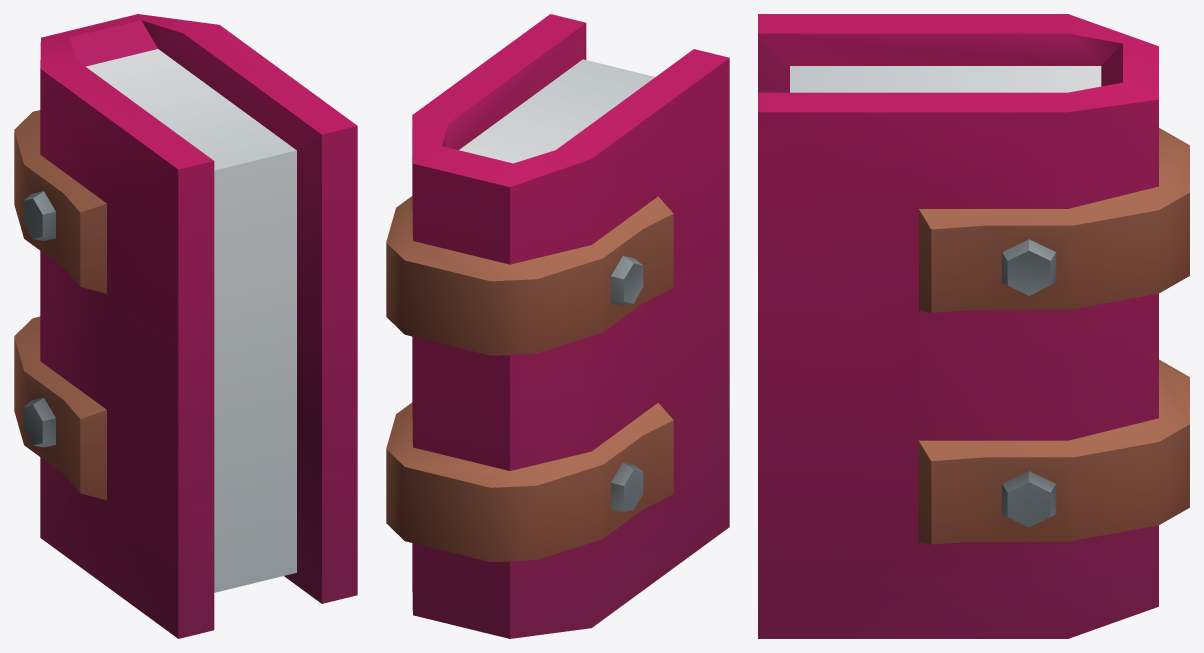
File: KayKit_Weapon_spellbook_closed.glb
3 renders of one model, left to right at view 1: azimuth 30°, elevation 25°; view 2: azimuth 150°, elevation 25°; view 3: azimuth 270°, elevation 25°, orthographic. The views are drawn at different scales.
Visible parts, largest first — view 1: spellbook_closed; view 2: spellbook_closed; view 3: spellbook_closed.
Part boxes in pixels (x1=…): spellbook_closed: x1=14, y1=14, x2=357, y2=638; spellbook_closed: x1=386, y1=14, x2=729, y2=638; spellbook_closed: x1=758, y1=14, x2=1189, y2=638.
Size of the model in its own units: 0.293 by 0.575 by 0.4271.
Materials: 1 (1 with a texture image).
